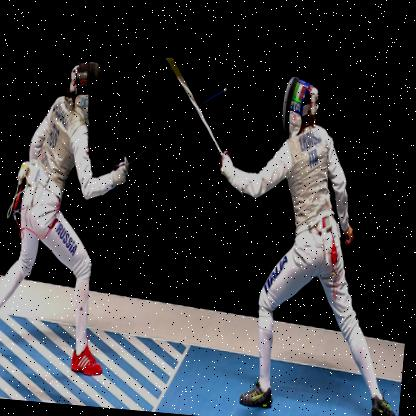fencer: (196, 56, 415, 415), (0, 40, 144, 387)
